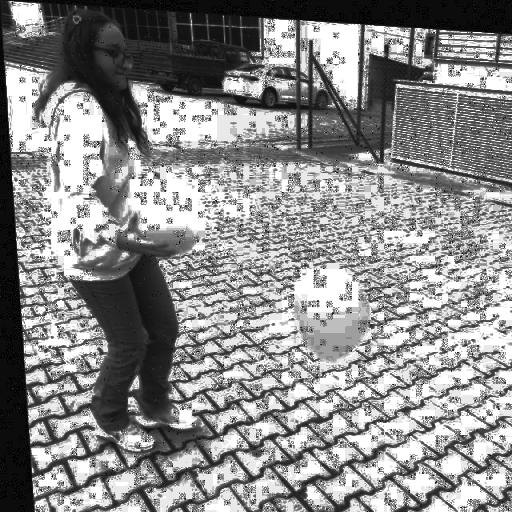balloon: (287, 260, 370, 362), (126, 167, 207, 254)
